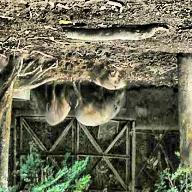boar: (74, 86, 129, 135), (39, 67, 77, 130), (96, 63, 127, 95)
